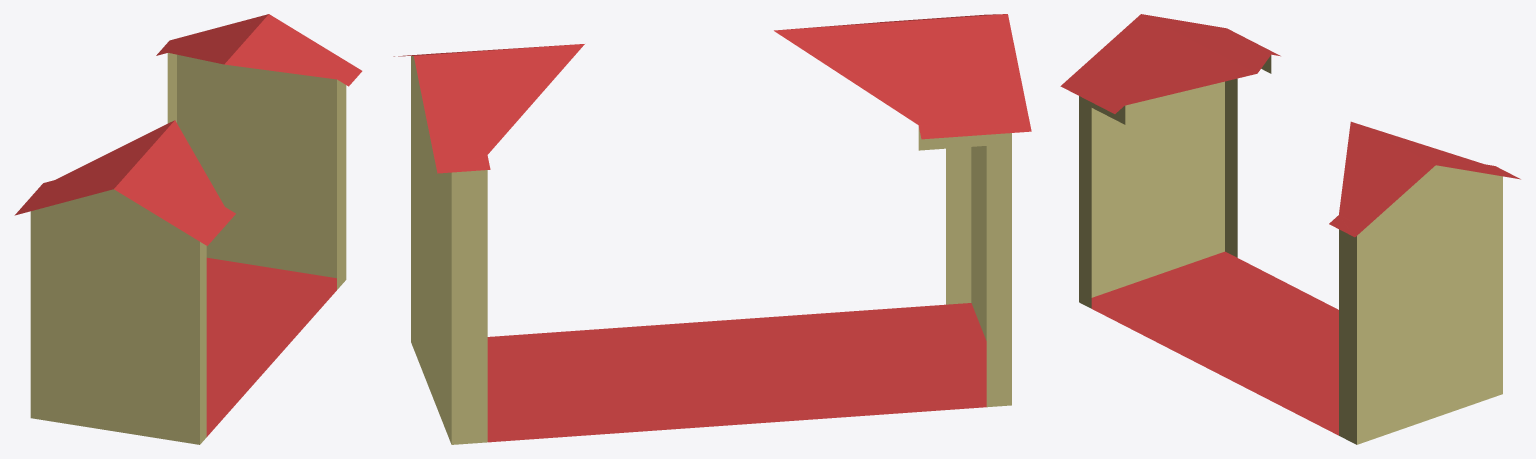
The picture shows the model from 3 angles, left to right: view 1: azimuth 30°, elevation 25°; view 2: azimuth 150°, elevation 25°; view 3: azimuth 270°, elevation 25°; orthographic projection. The views are drawn at different scales.
Size of the model in its own units: 18.73 by 17.45 by 10.83.
